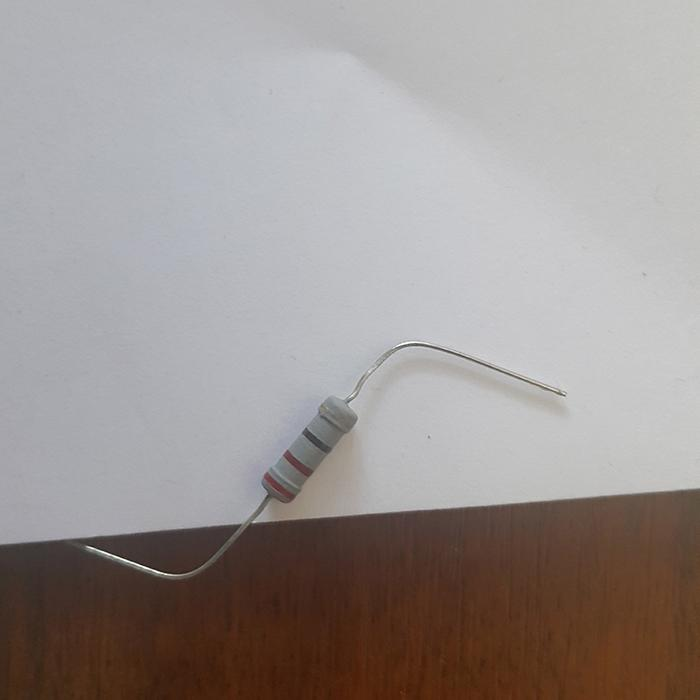resistor: (262, 393, 358, 504)
